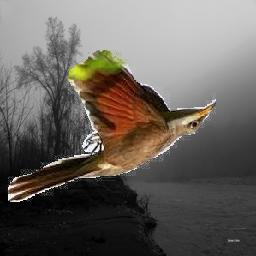Cuckoo: (8, 50, 216, 202)
